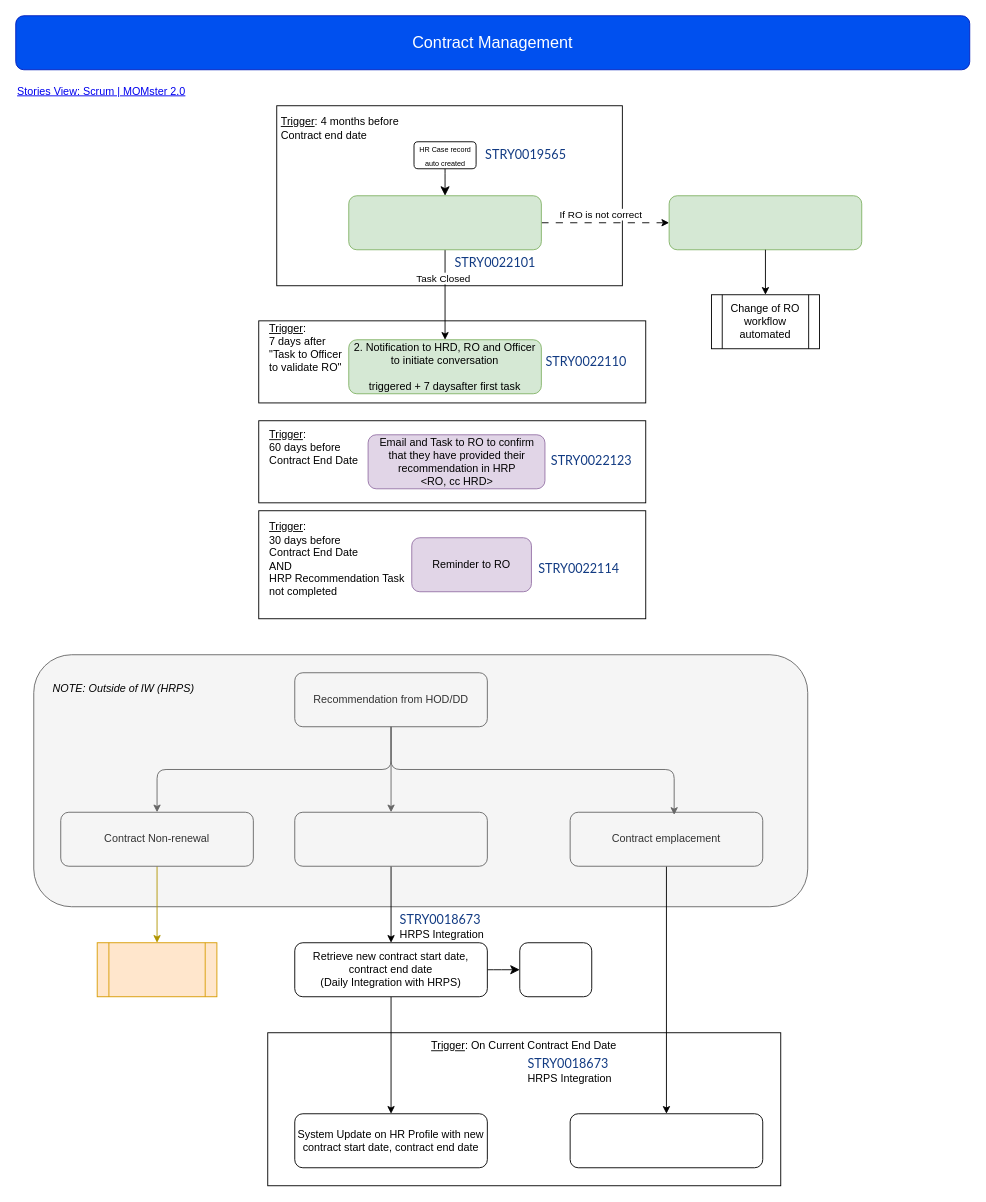
The diagram is 986 pixels wide and 1202 high, and some of its shapes have lost their labels. The centre of each missing label's shape, as x and y in pixels:
1. Email & Task to Officer to confirm RO Due Date: 1 Week after task creation: (x=444, y=222)
Contract renewal: (x=390, y=838)
HRD Initiated Exit (Manually Raise): (x=156, y=969)
Staff to fill and submit "Change of Manager": (x=765, y=222)
Store New Contract Dates Temporarily: (x=555, y=969)
System Update Staff Tenure in IW (Daily Integration with HRPS): (x=666, y=1140)
